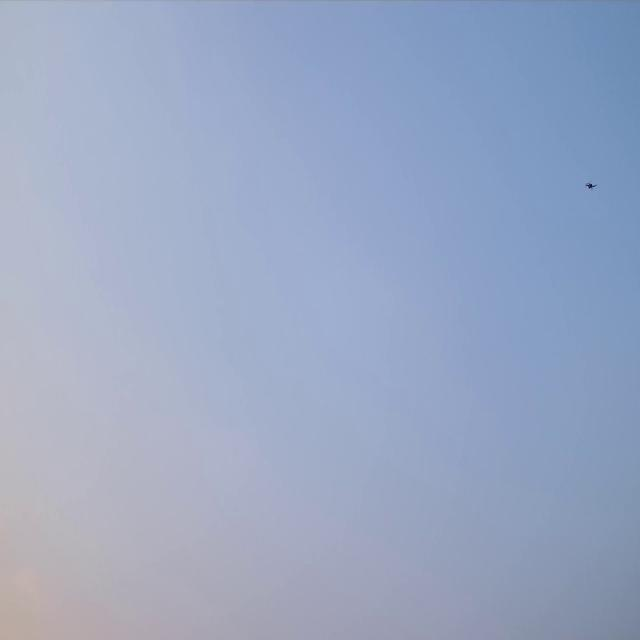UAV: (584, 180, 597, 192)
